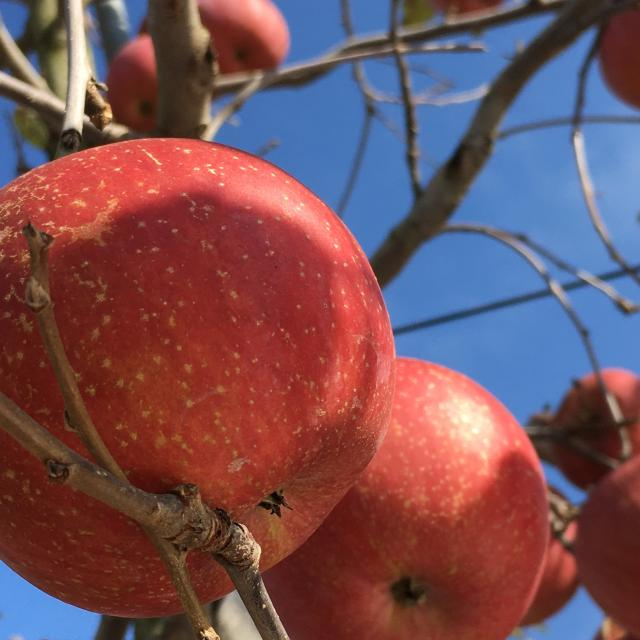fresh: (1, 127, 403, 627), (251, 342, 561, 640)
